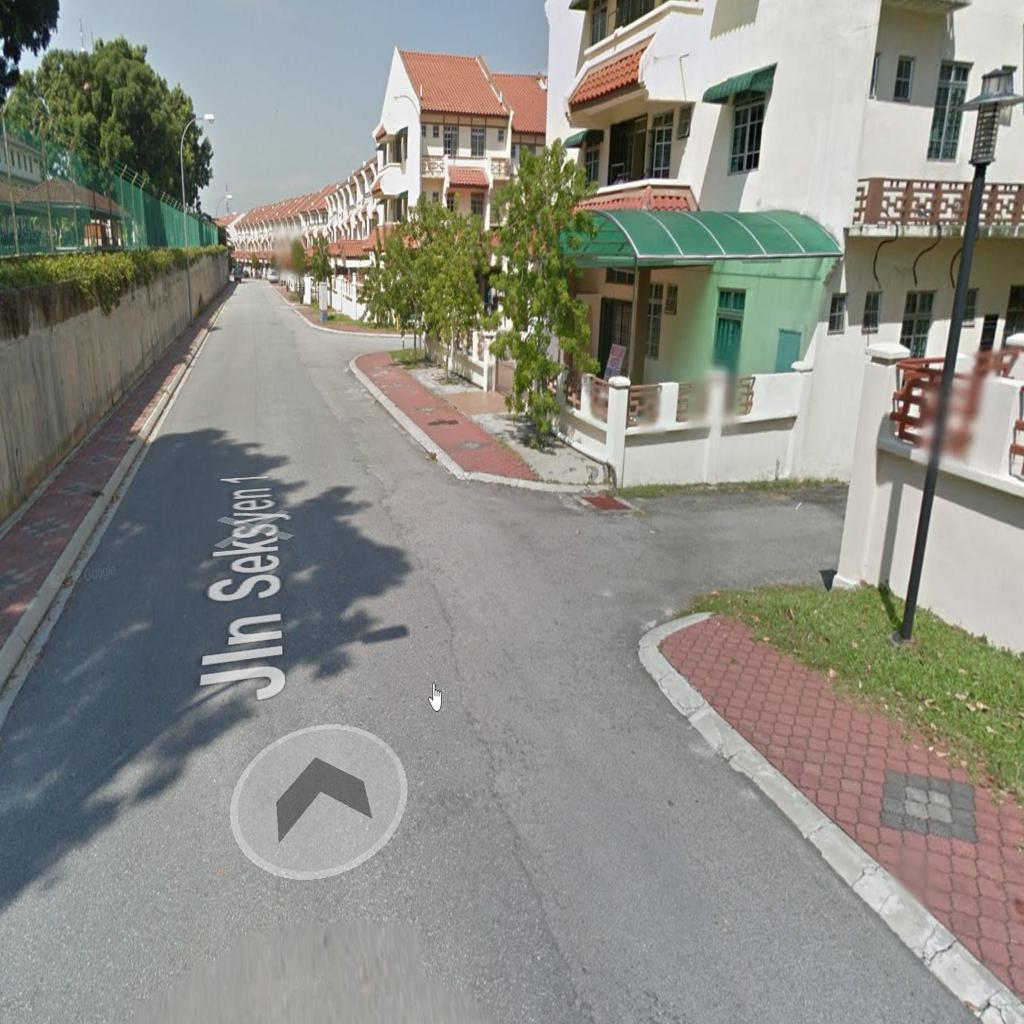Junction: (433, 447, 839, 656), (310, 309, 416, 369)
